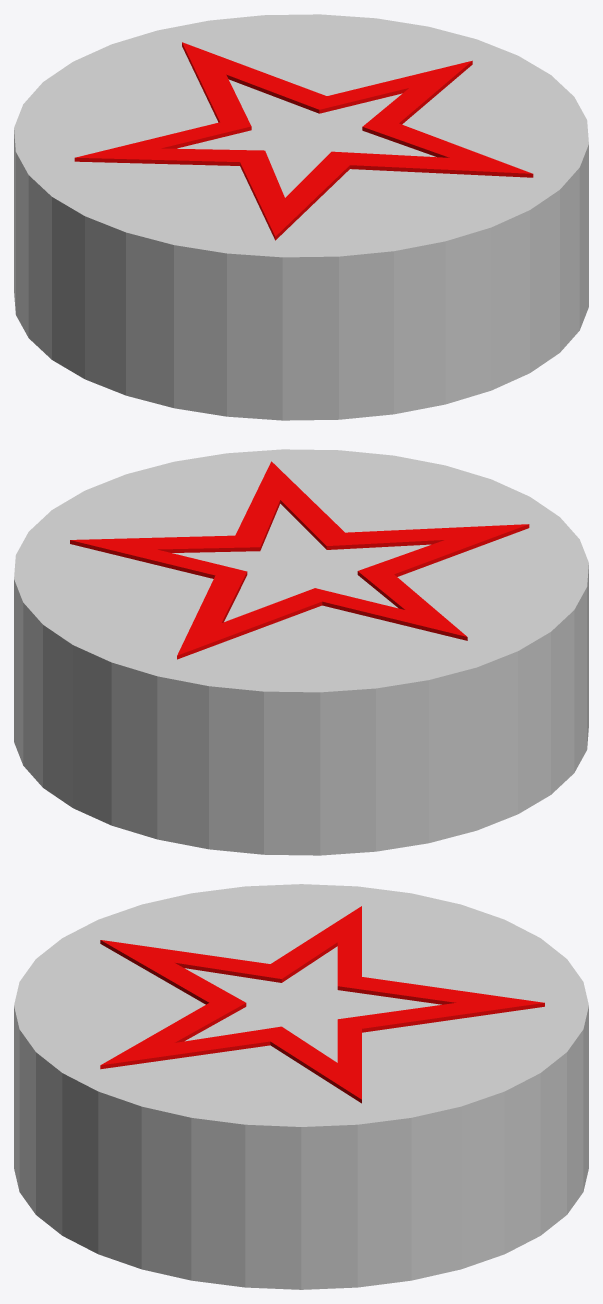
Rendered from button_soviet_v3.fbx.
The picture shows the model from 3 angles, top to bottom: view 1: azimuth 30°, elevation 25°; view 2: azimuth 150°, elevation 25°; view 3: azimuth 270°, elevation 25°; orthographic projection.
Parts seen in each view (by area): view 1: Text; view 2: Text; view 3: Text.
Part boxes in pixels (x1,y1,x2,y2): Text: (14, 14, 588, 420); Text: (14, 449, 588, 855); Text: (14, 884, 588, 1289).
Size of the model in its own units: 80 by 25.6 by 80.
